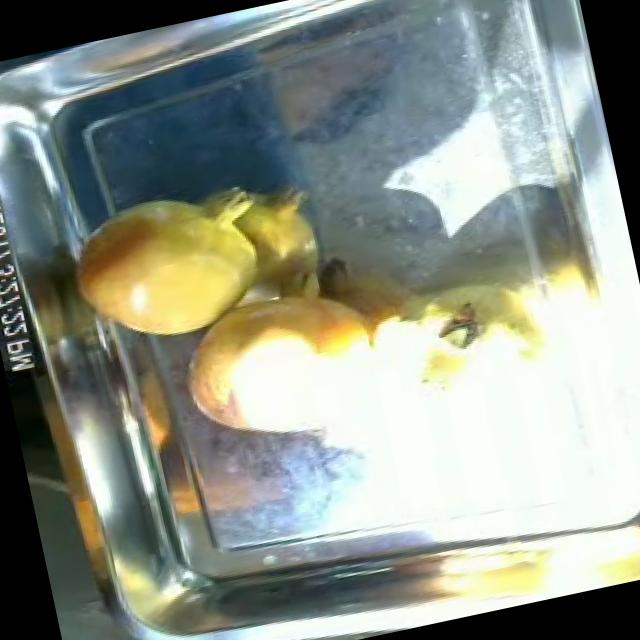fruit: (51, 166, 290, 366), (160, 271, 363, 464), (374, 240, 575, 434)
